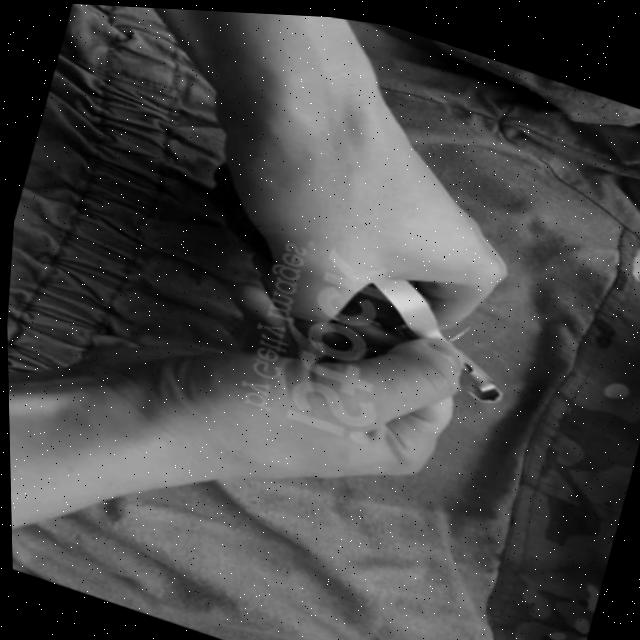grenade: (171, 150, 545, 403)
